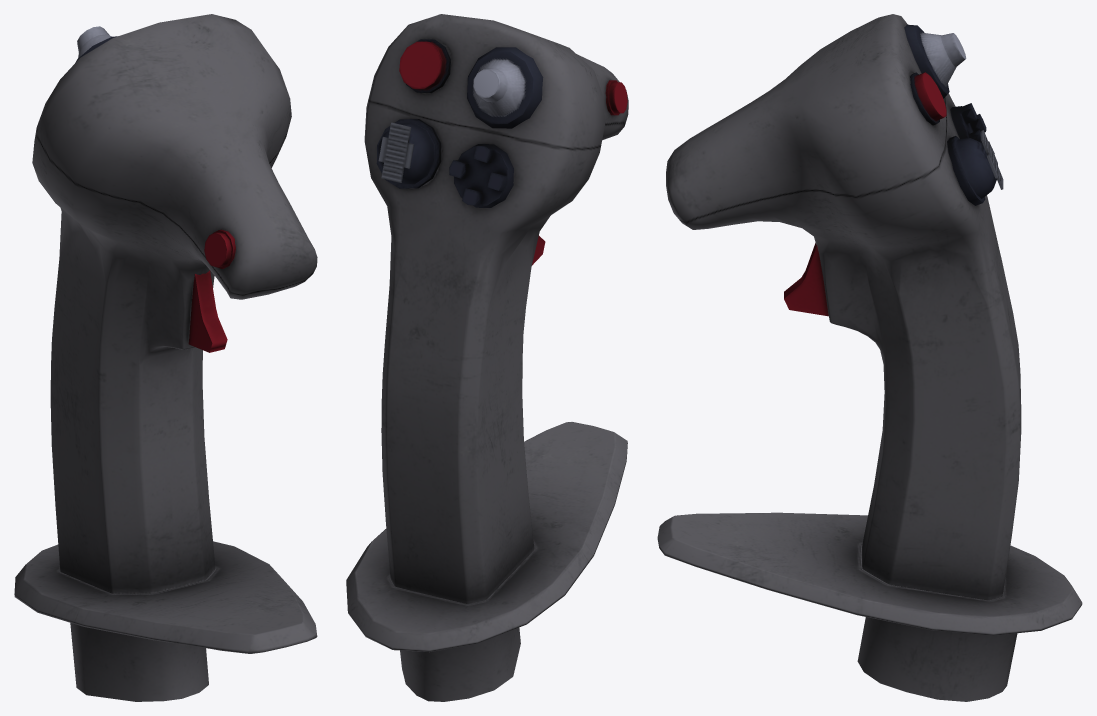
File: Flight Stick.fbx
The picture shows the model from 3 angles, left to right: view 1: azimuth 30°, elevation 25°; view 2: azimuth 150°, elevation 25°; view 3: azimuth 270°, elevation 25°; orthographic projection. The views are drawn at different scales.
Visible parts, largest first — view 1: Flight_Stick; view 2: Flight_Stick; view 3: Flight_Stick.
Boxes of the visible parts, x1,y1,x2,y2 form: Flight_Stick: [14, 14, 317, 701]; Flight_Stick: [346, 14, 628, 701]; Flight_Stick: [657, 14, 1082, 701].
Bounding box in the file's own units: 4.97 × 14.46 × 8.52.
